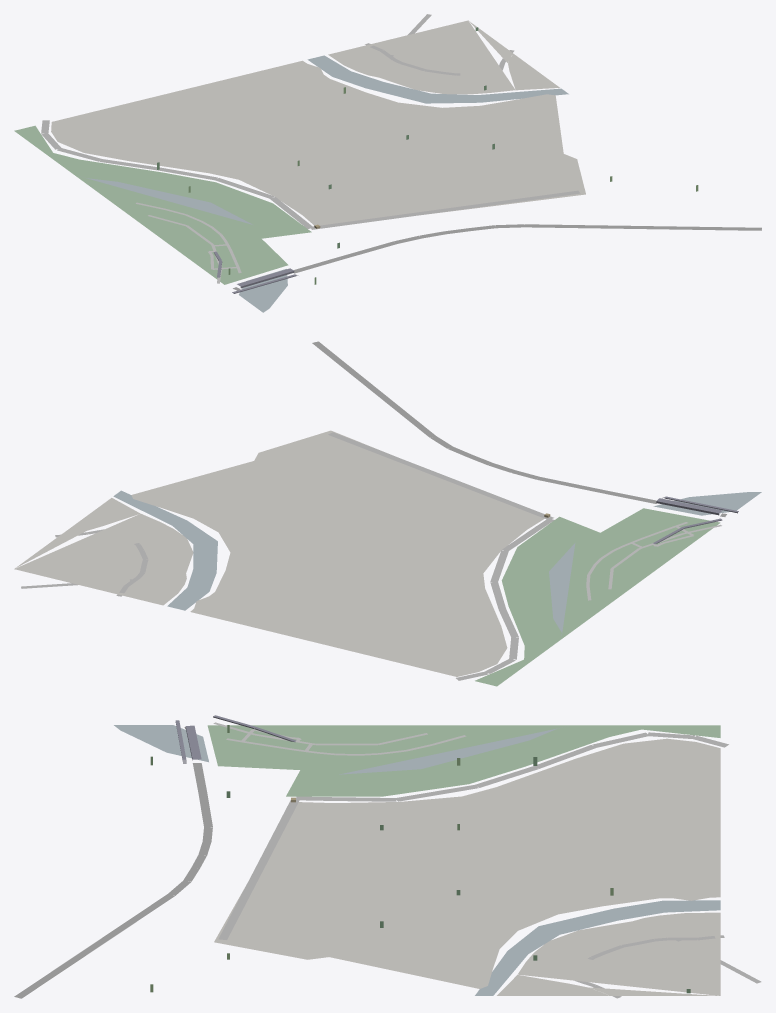
3 renders of one model, top to bottom at view 1: azimuth 30°, elevation 25°; view 2: azimuth 150°, elevation 25°; view 3: azimuth 270°, elevation 25°, orthographic. The views are drawn at different scales.
Size of the model in its own units: 513 by 8.9 by 585.
